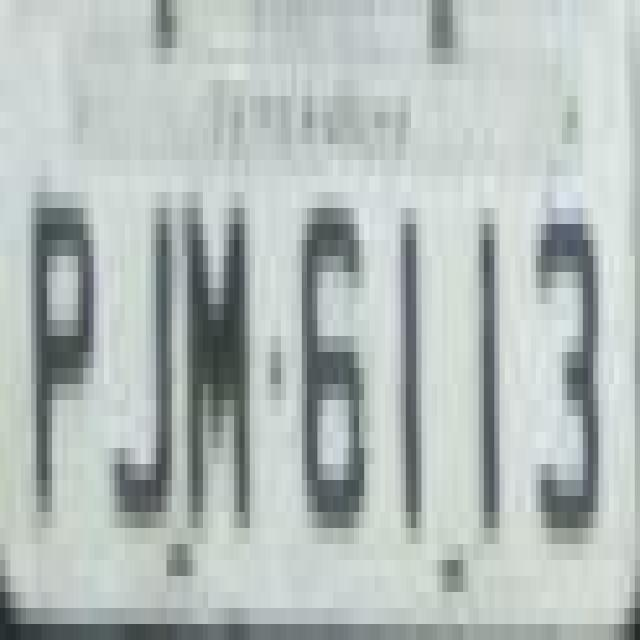1: (374, 178, 446, 549), (455, 183, 526, 554)
3: (532, 185, 603, 556)
6: (297, 178, 368, 549)
J: (107, 162, 176, 533)
M: (182, 172, 253, 543)
P: (19, 169, 101, 537)
